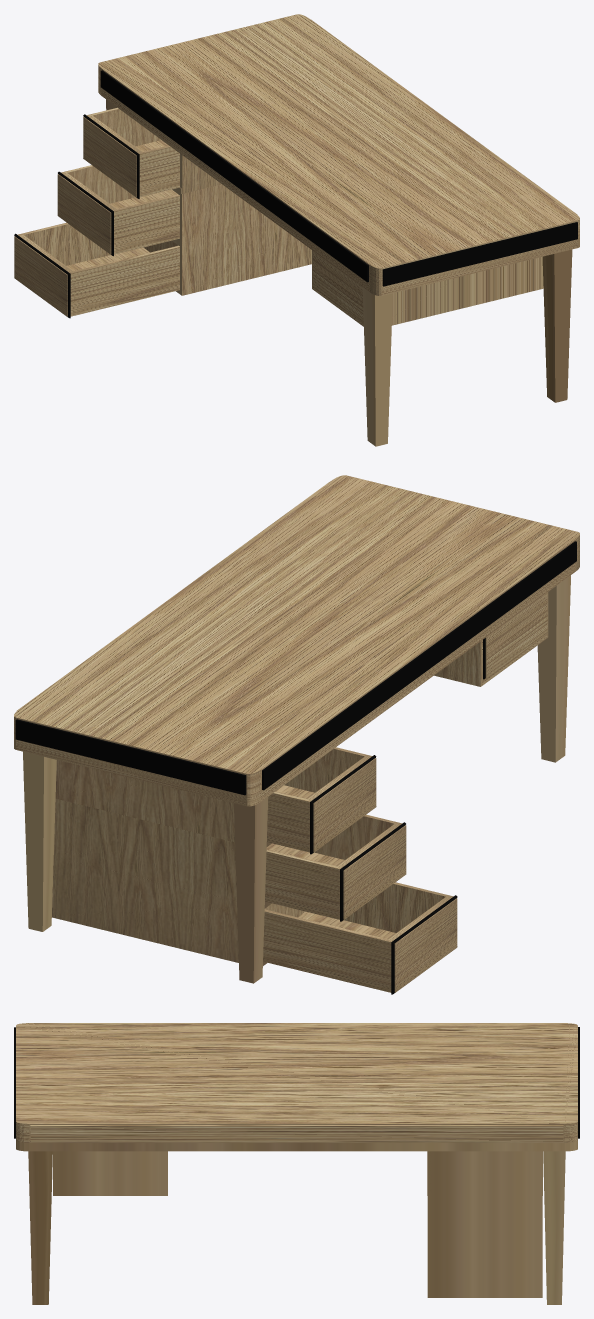
The model's file is Desk.fbx.
The picture shows the model from 3 angles, top to bottom: view 1: azimuth 30°, elevation 25°; view 2: azimuth 150°, elevation 25°; view 3: azimuth 270°, elevation 25°; orthographic projection. The views are drawn at different scales.
Visible parts, largest first — view 1: Desk; view 2: Desk; view 3: Desk.
Boxes of the visible parts, <box> form: Desk: <box>14,14,579,446</box>; Desk: <box>14,475,579,994</box>; Desk: <box>14,1023,579,1304</box>.
Bounding box in the file's own units: 798 × 456 × 1266.
